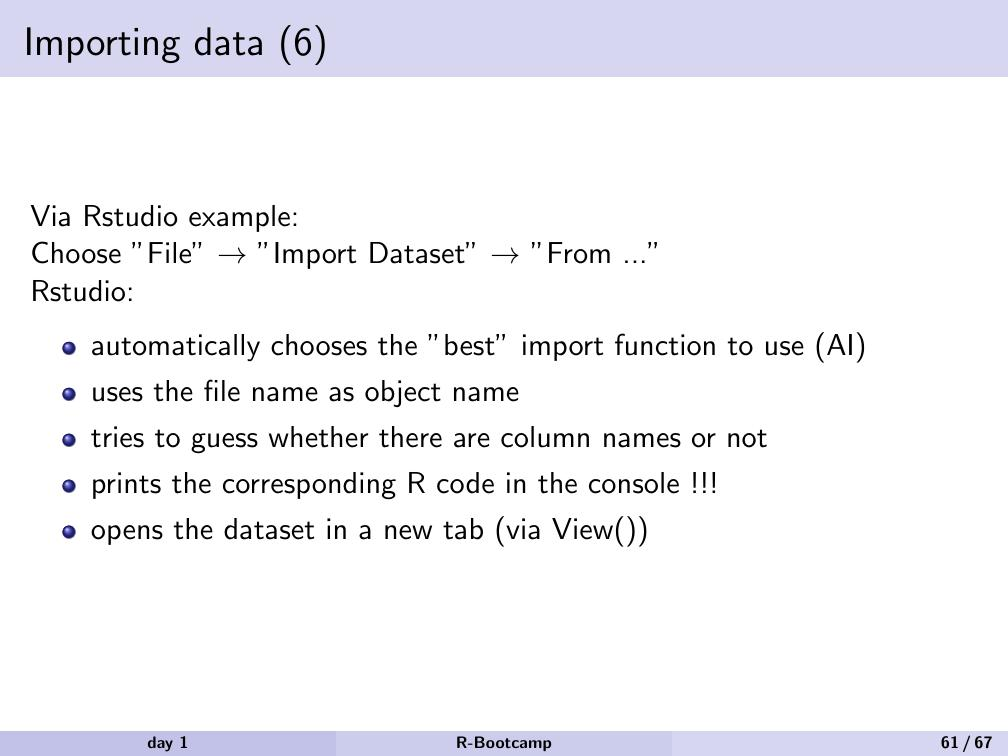Title: (15, 15, 332, 74)
